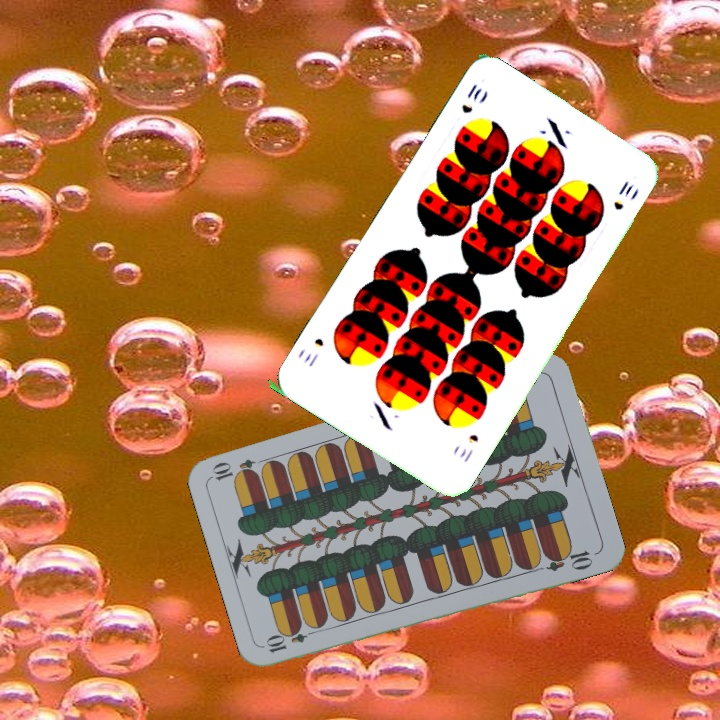E10: (262, 623, 320, 656)
S10: (457, 79, 485, 116), (454, 430, 481, 466)
